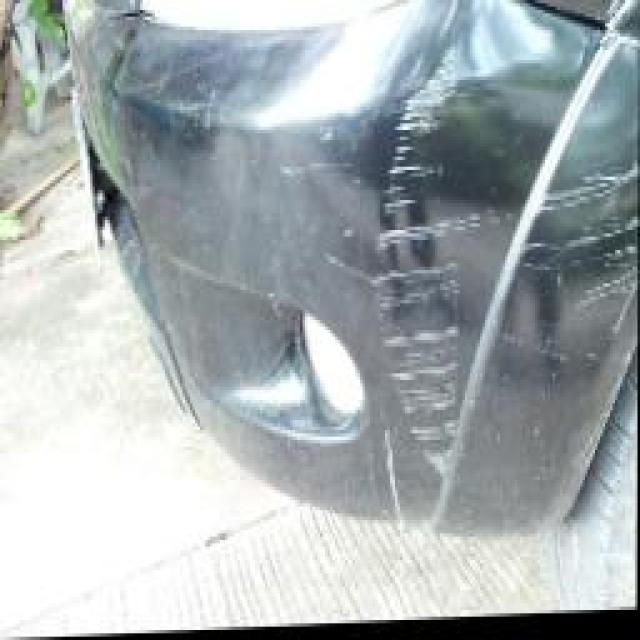Bumper: (308, 0, 640, 546)
